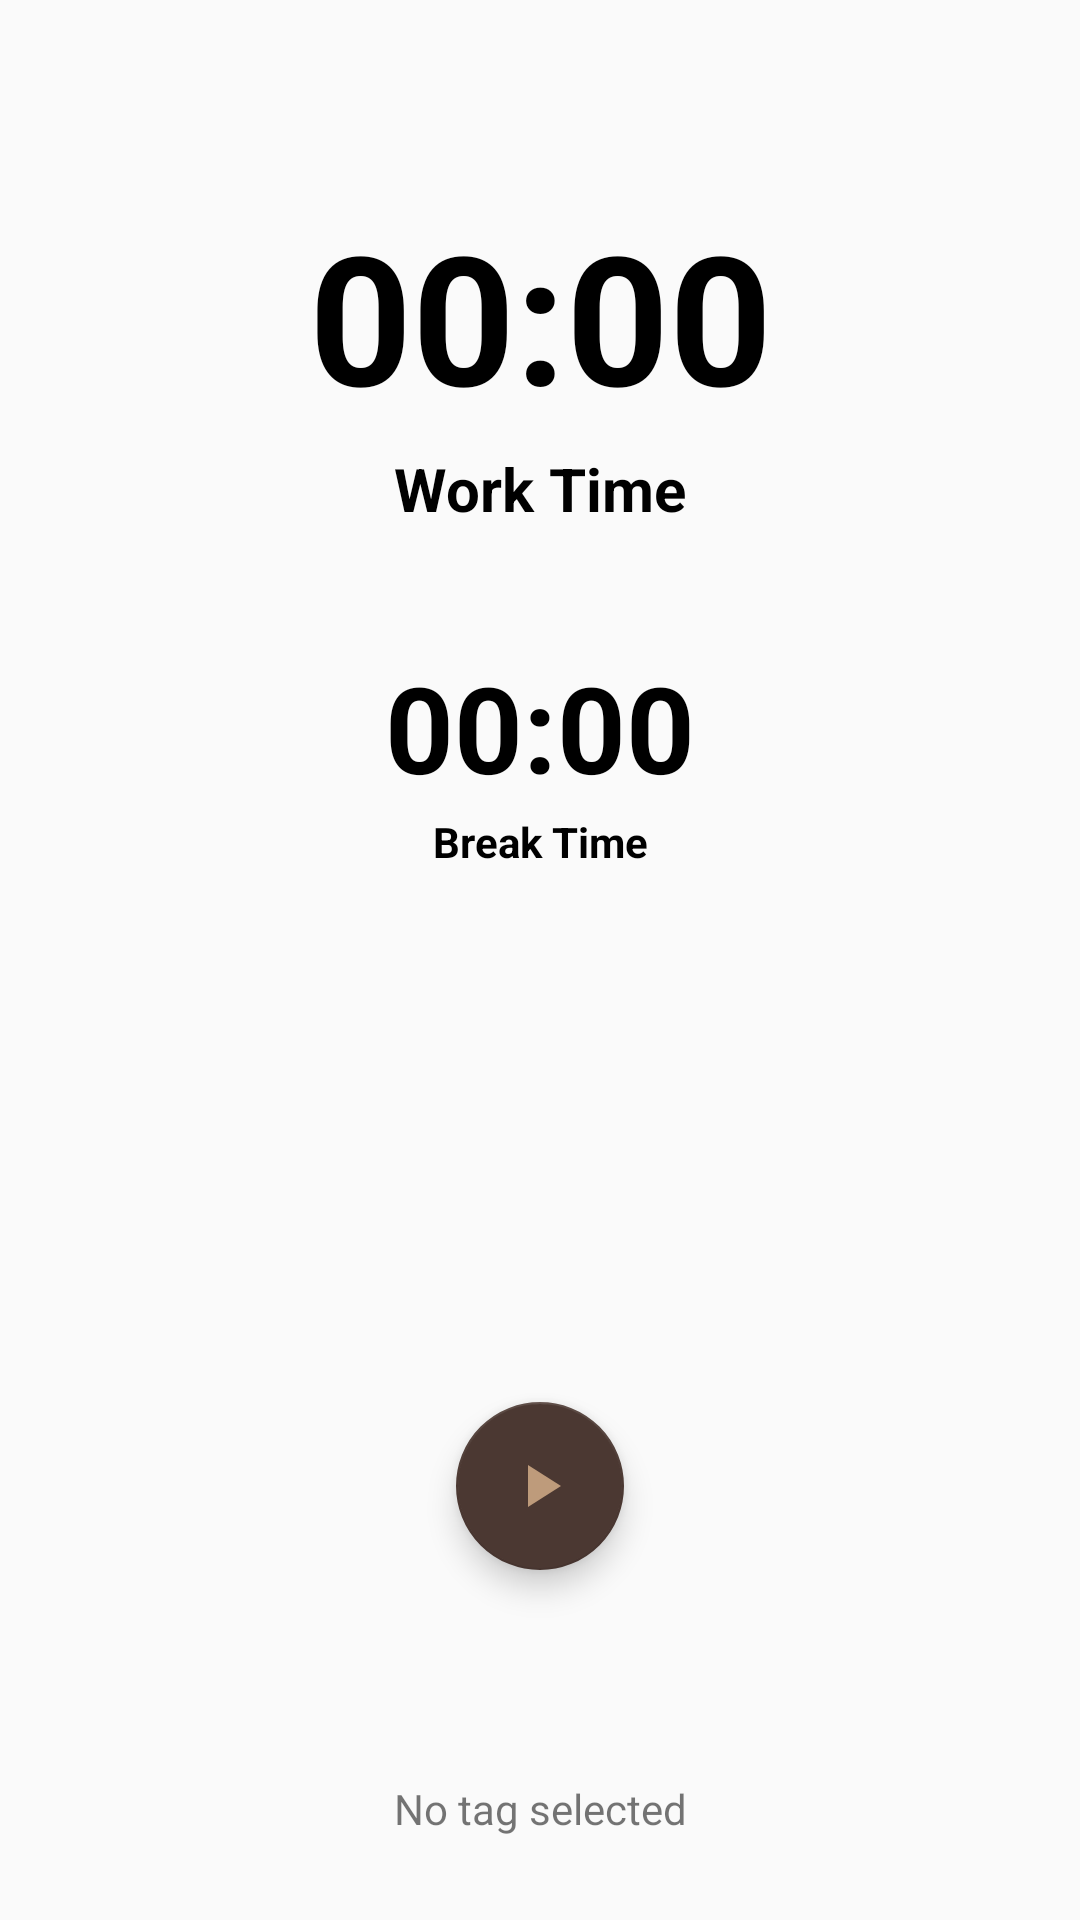

Where icons sit on this 1080px x 1920px app screen, as BBox(x1, y1, x2, y2):
Start/Pause/Resume Session: BBox(456, 1402, 624, 1570)
